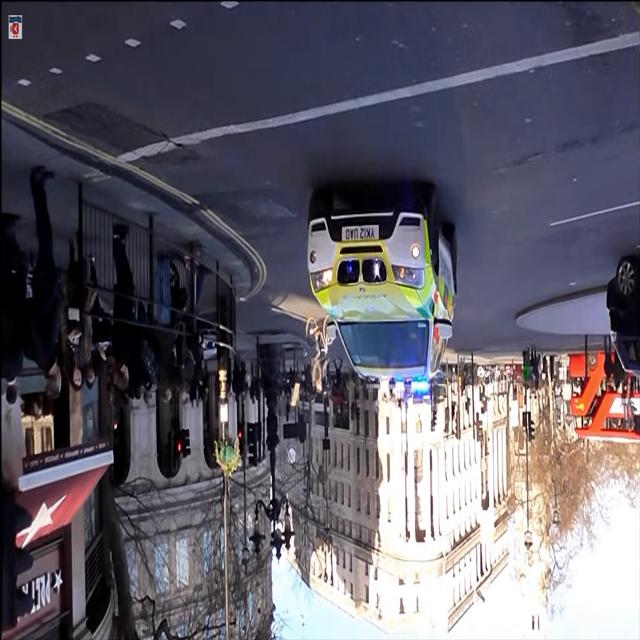emergency-vehicles: (288, 174, 472, 398)
